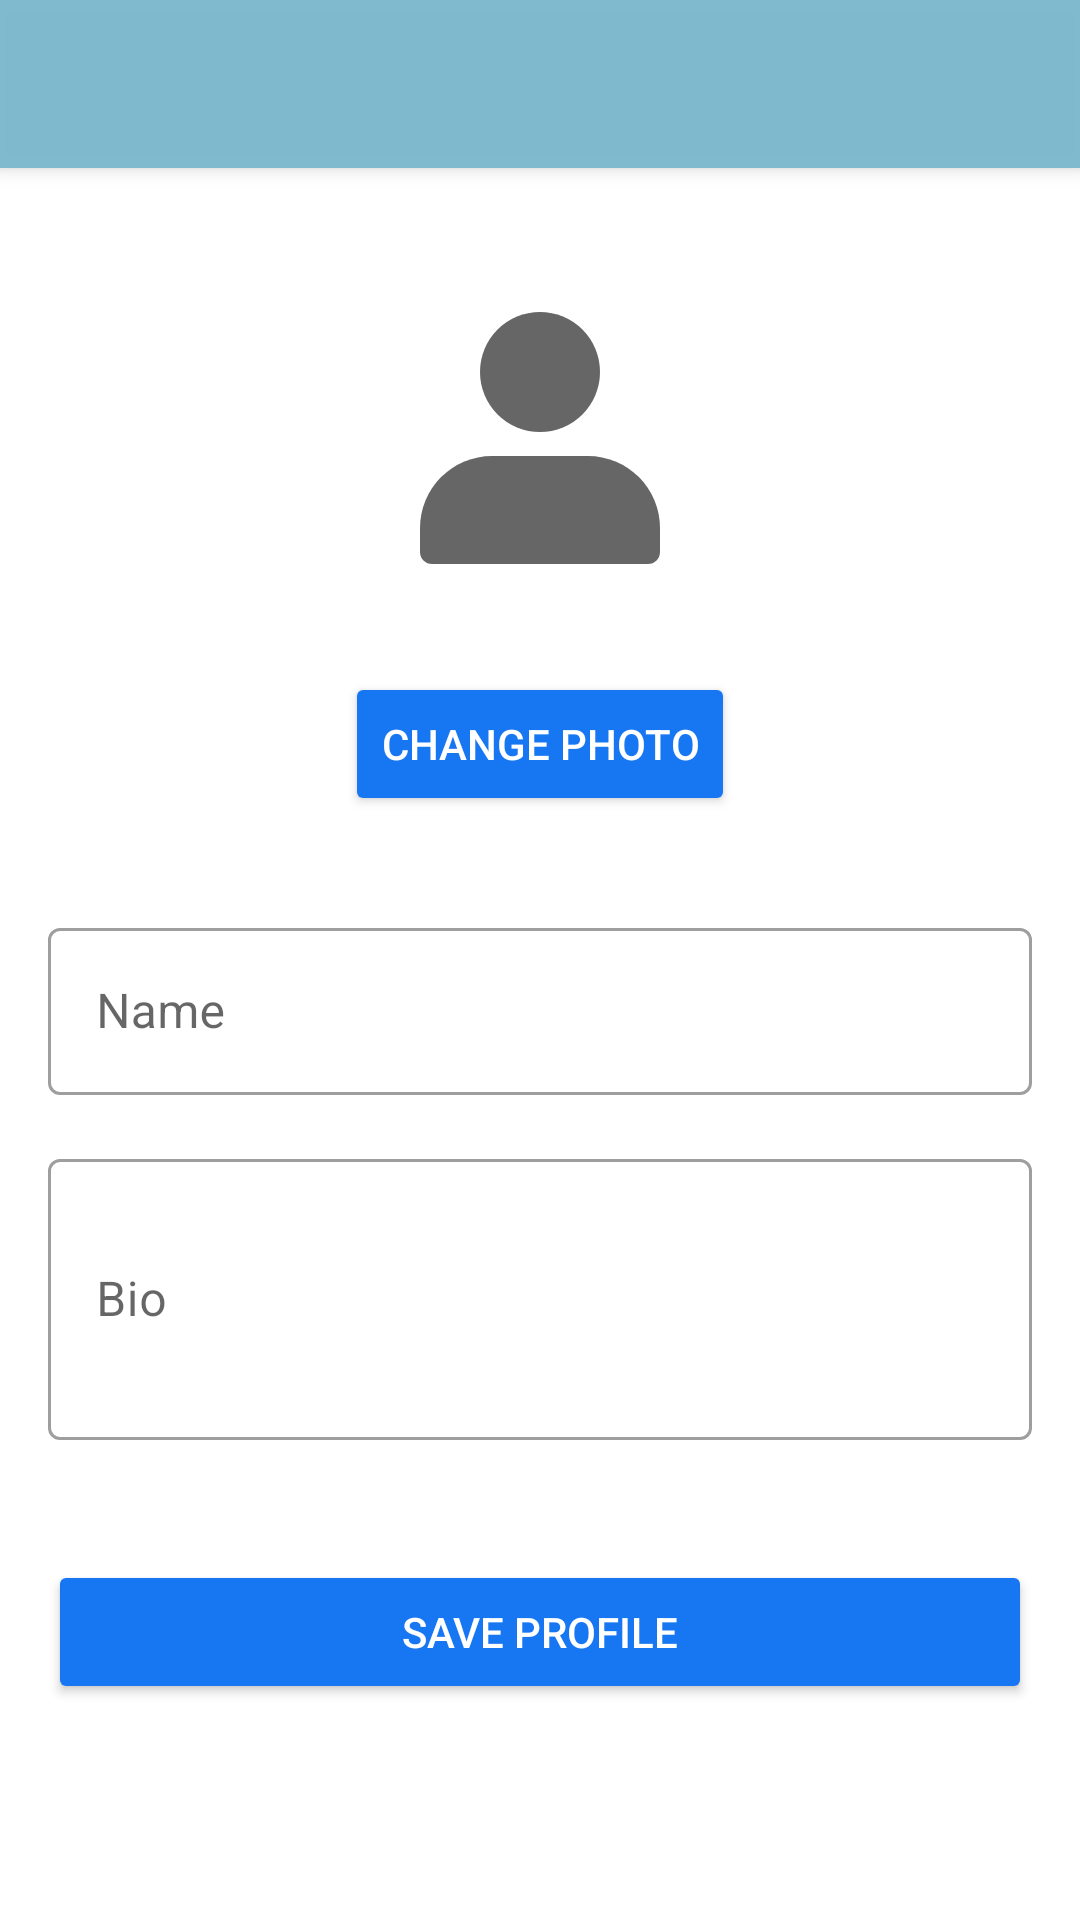

Icon click points for this 1080*1920 phone screenshot, format point (x, y):
profile: point (540, 438)
